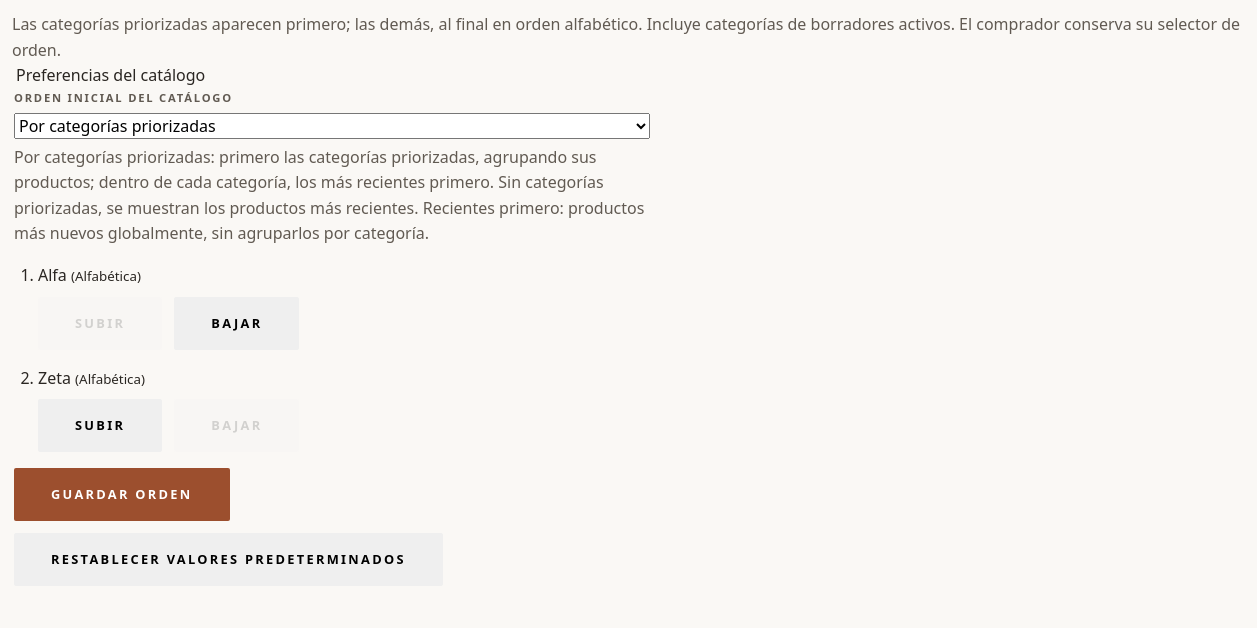
Test case: incluye borradores, reordena con foco y persiste solo sus preferencias
Step 1. Select "Mayor precio" in the dropdown labelled "Orden inicial del catálogo" → (332, 126), box [14,113,650,139]
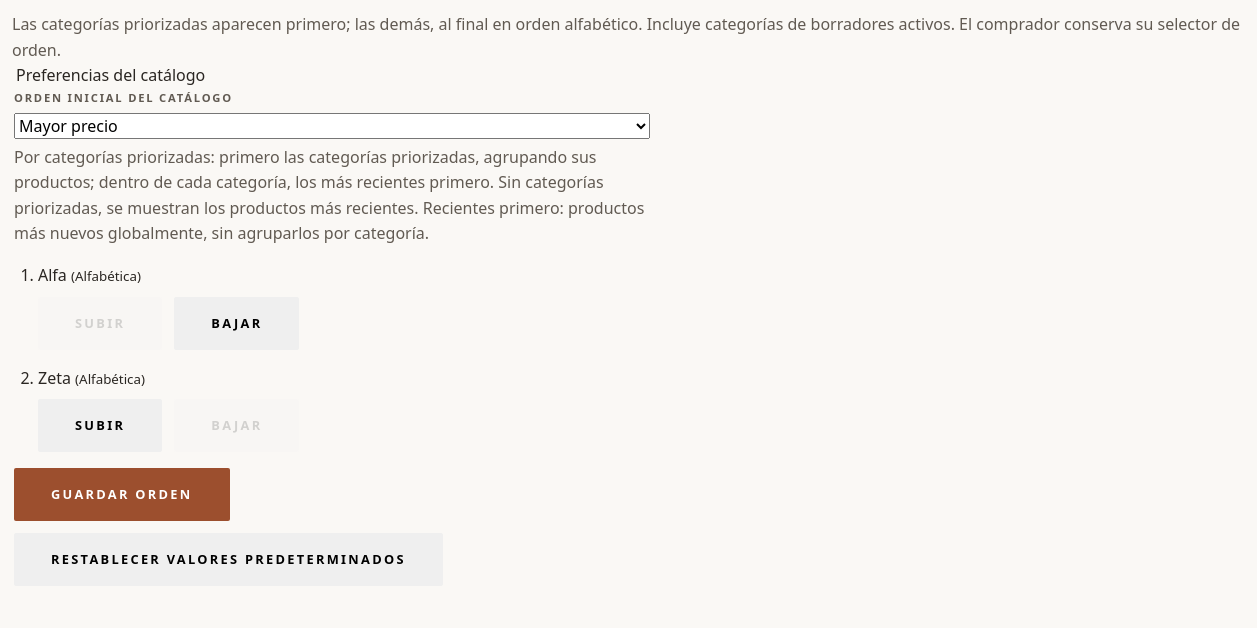
Step 2. Click the button with aria-label "Subir Zeta" → (100, 426), box [38,399,162,452]
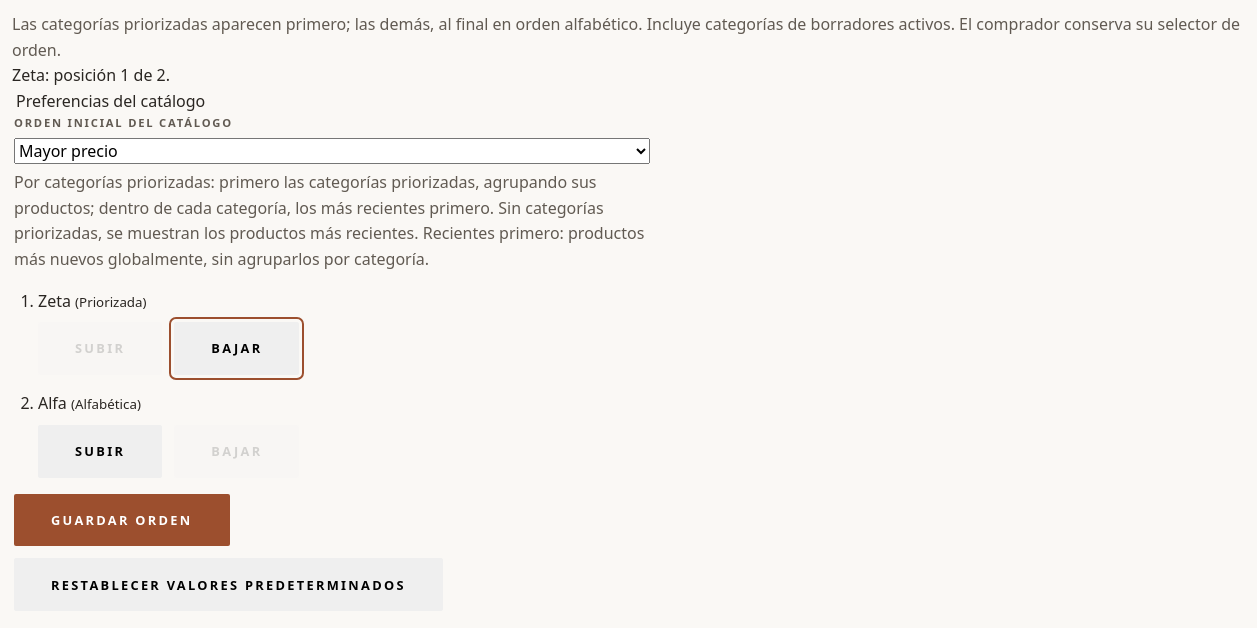
Result: the message shows "Zeta: posición 1" at [12,64,170,86]
Step 3. Click the button "Guardar orden" → (122, 520), box [14,494,230,546]
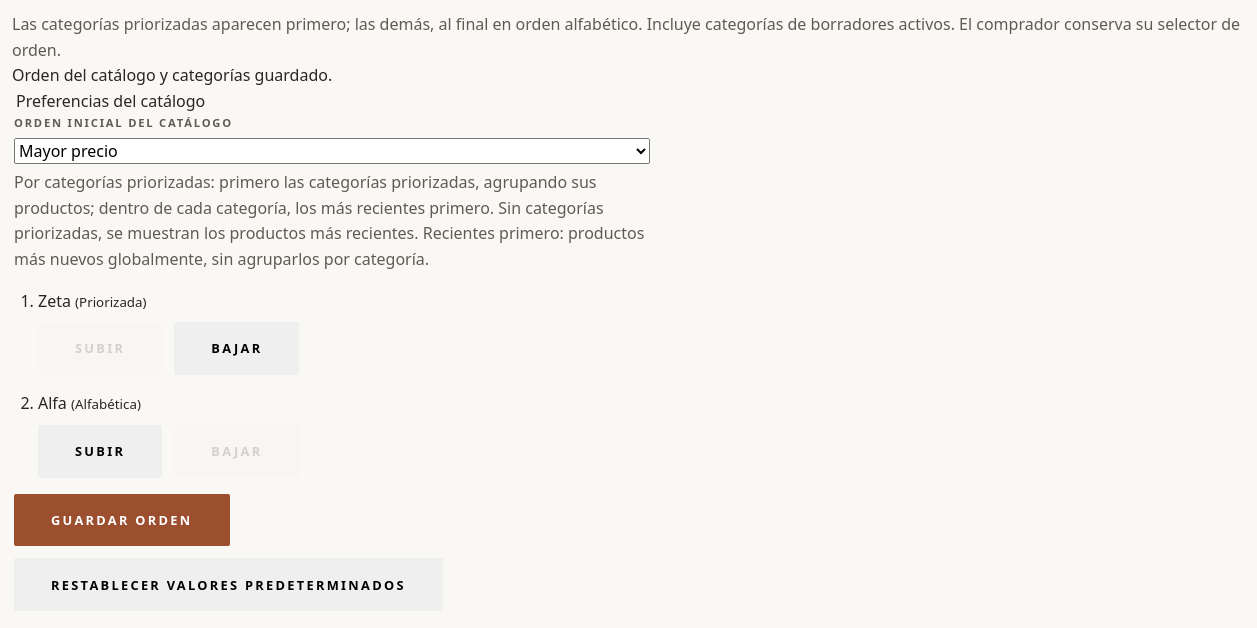
Result: the text "Orden del catálogo y categorías guardado." is shown at [12,64,332,86]
